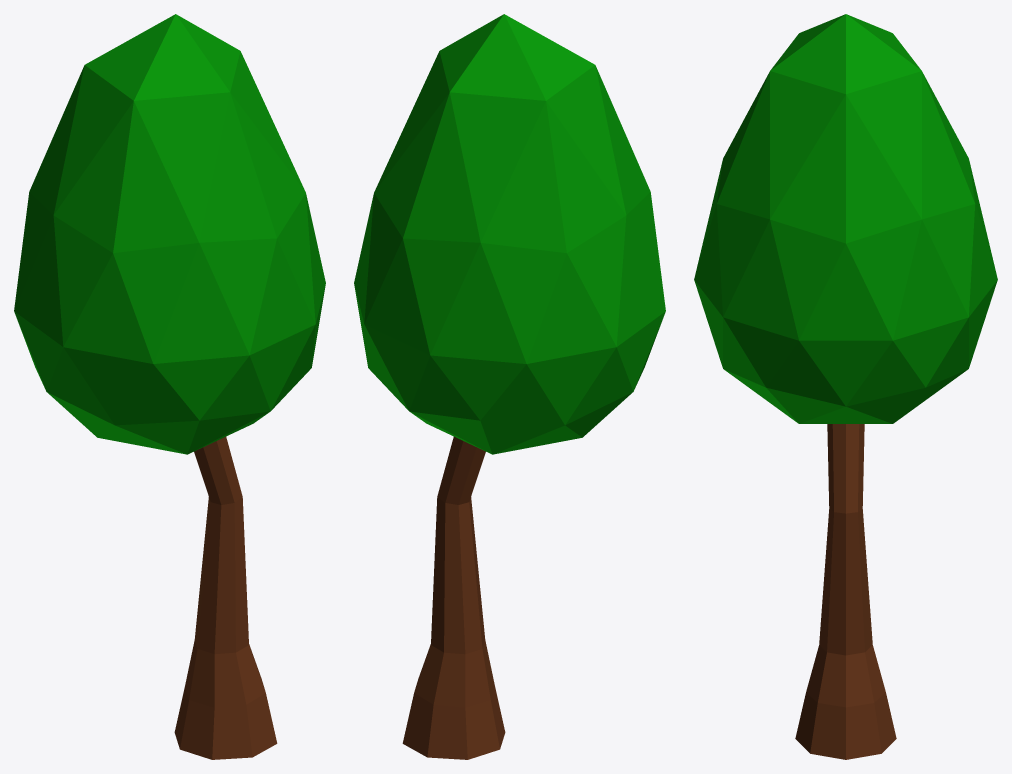
3 views of the same model, side by side, from view 1: azimuth 30°, elevation 25°; view 2: azimuth 150°, elevation 25°; view 3: azimuth 270°, elevation 25° (orthographic). The views are drawn at different scales.
Parts seen in each view (by area): view 1: Circle; view 2: Circle; view 3: Circle.
Boxes of the visible parts, bbox=[...] form: Circle: bbox=[14, 14, 325, 759]; Circle: bbox=[354, 14, 665, 759]; Circle: bbox=[694, 14, 997, 759].
Bounding box in the file's own units: 570 × 1528 × 600.
